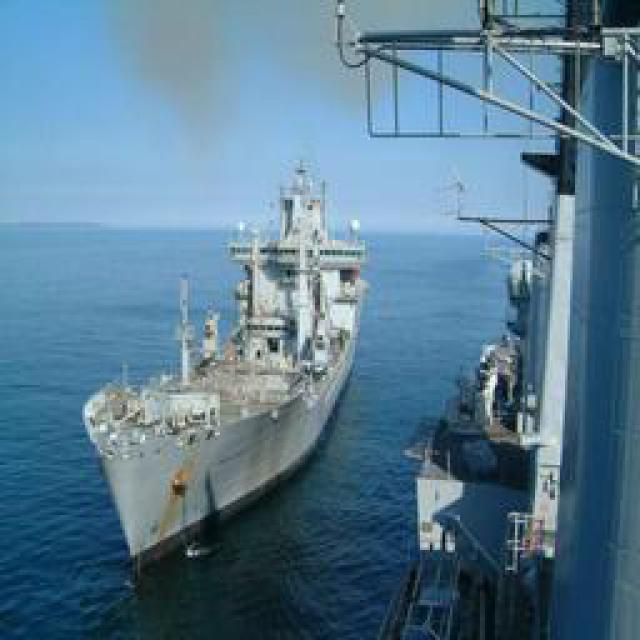Ship: (87, 153, 375, 581)
